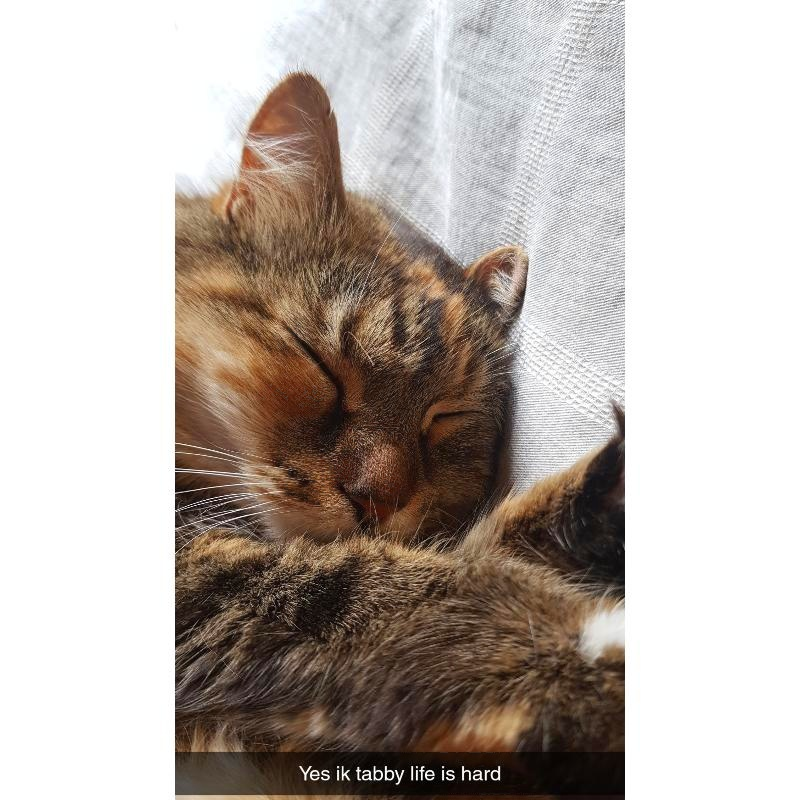yellow: (175, 71, 625, 752)
